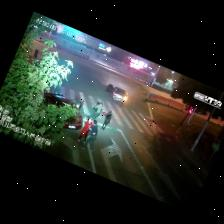person: (81, 120, 96, 150), (77, 118, 92, 142), (84, 102, 99, 119), (101, 111, 111, 129), (92, 103, 102, 120)
